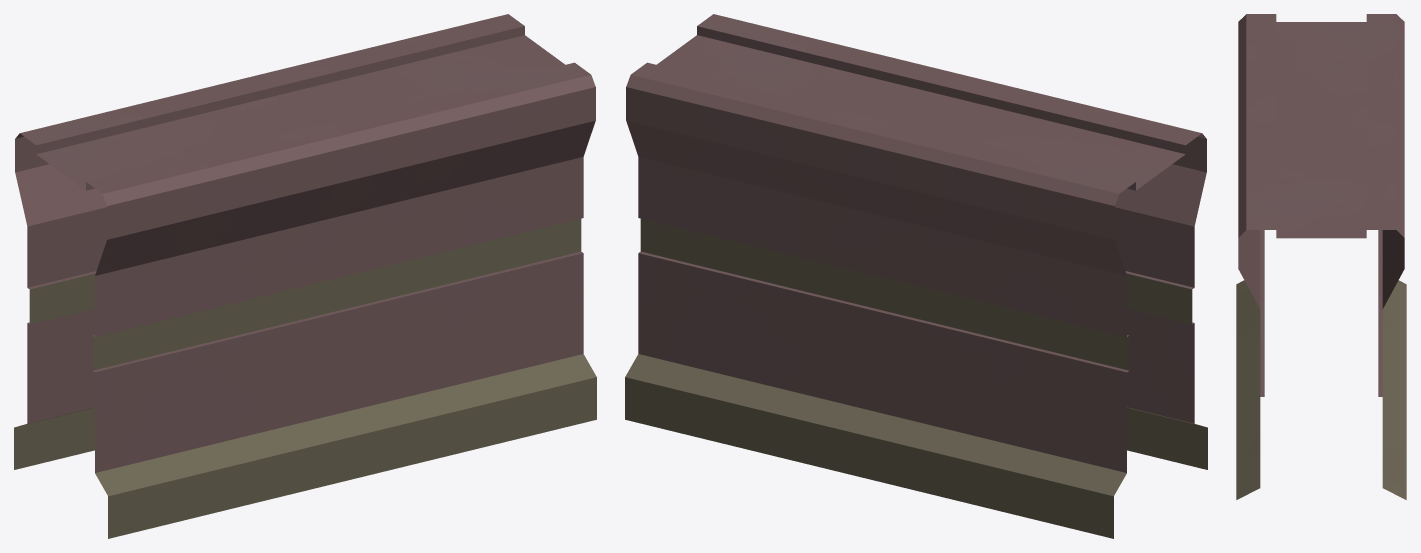
File: SM_Wall_C.fbx
The picture shows the model from 3 angles, left to right: view 1: azimuth 30°, elevation 25°; view 2: azimuth 150°, elevation 25°; view 3: azimuth 270°, elevation 25°; orthographic projection. The views are drawn at different scales.
Visible parts, largest first — view 1: wall_C; view 2: wall_C; view 3: wall_C.
Part boxes in pixels (x1,y1,x2,y2): wall_C: [14, 14, 596, 538]; wall_C: [625, 14, 1207, 538]; wall_C: [1236, 14, 1406, 499].
Bounding box in the file's own units: 3 × 2 × 1.
Materials: 1 (1 with a texture image).
